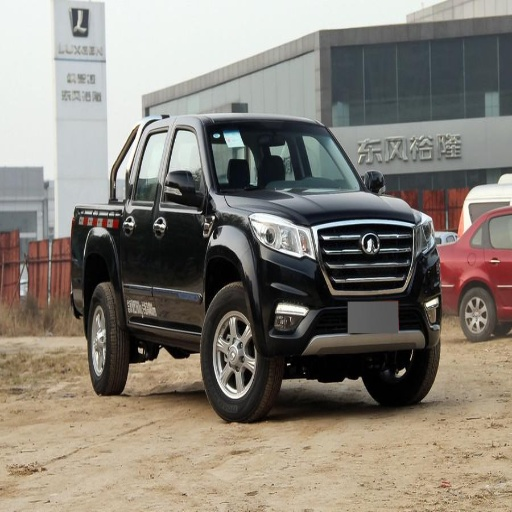front_bumper: (246, 223, 440, 363)
front_right_door: (154, 124, 207, 324)
front_right_light: (251, 213, 312, 256)
hood: (250, 179, 419, 223)
trunk: (64, 207, 117, 305)
